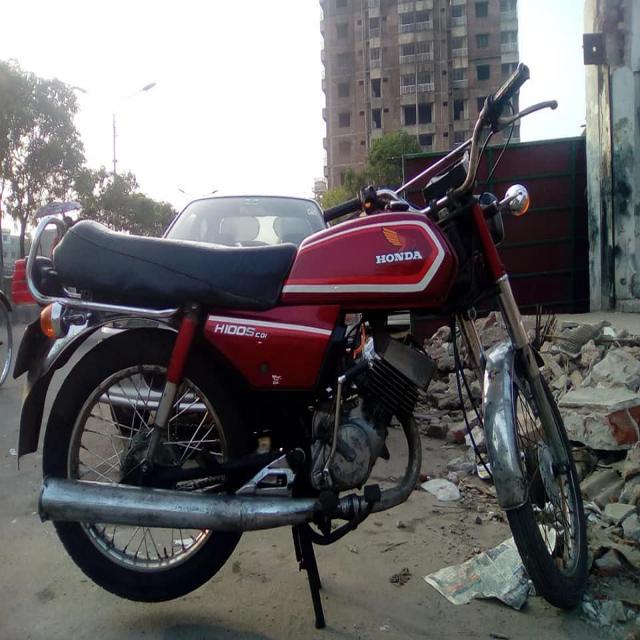Motorbike: (8, 43, 592, 631)
